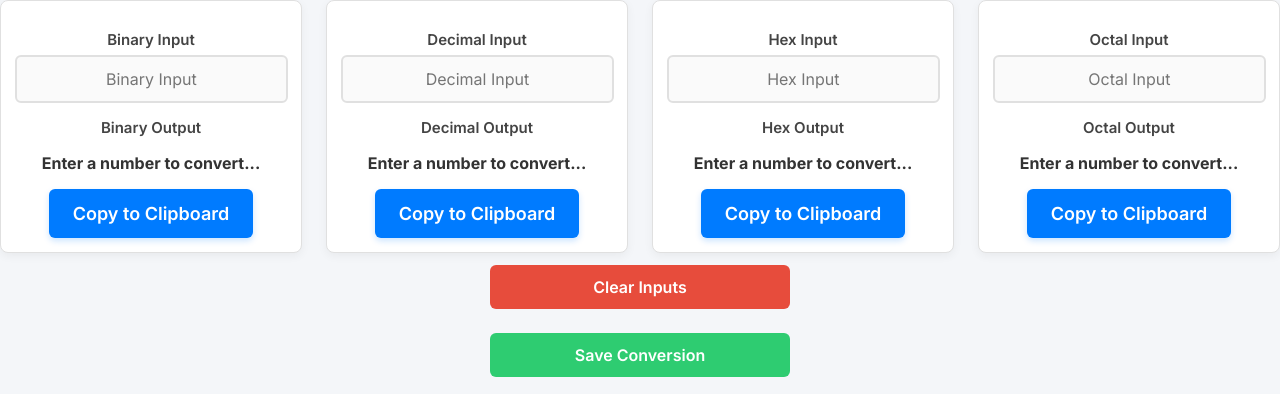
Test: component shows conversions › shows conversions
Type "11010101" into the field with placeholder "Binary Input" at [151, 79], box top-left (15, 55), bottom-right (288, 103)
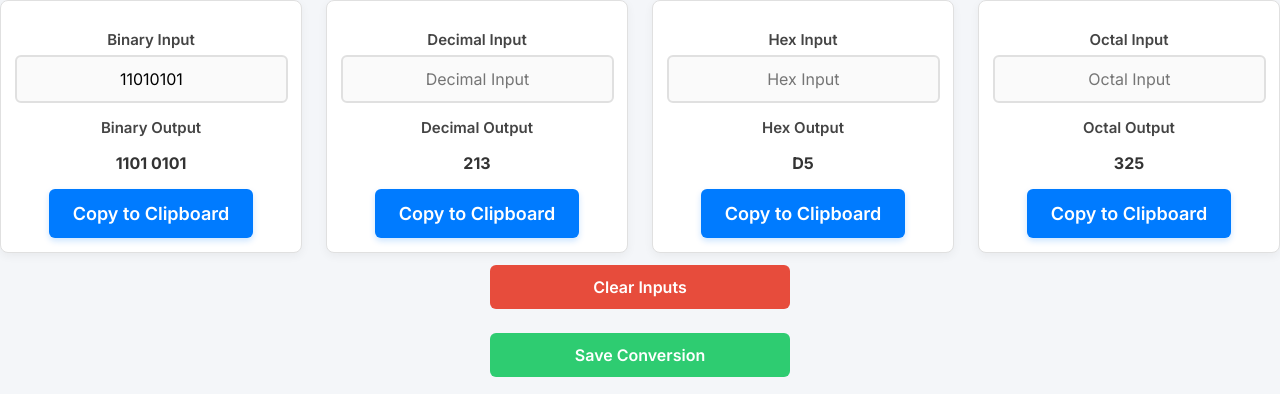
Check: the text "213" is shown, box top-left (463, 153), bottom-right (491, 173)
